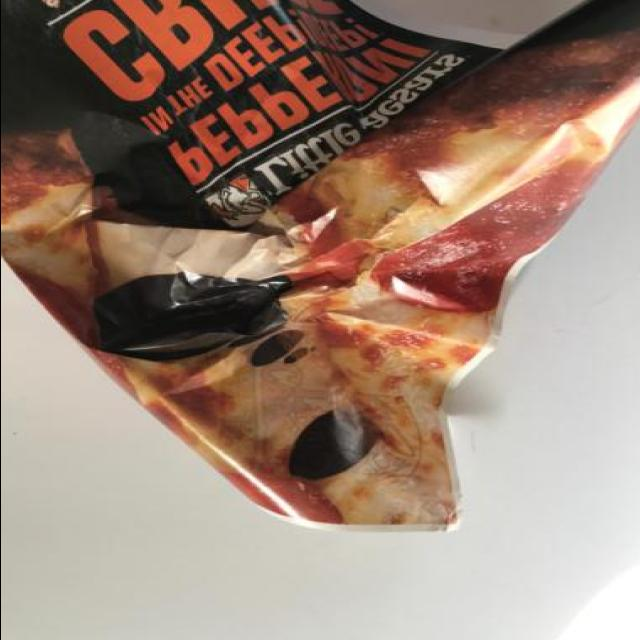kertas: (0, 0, 640, 535)
